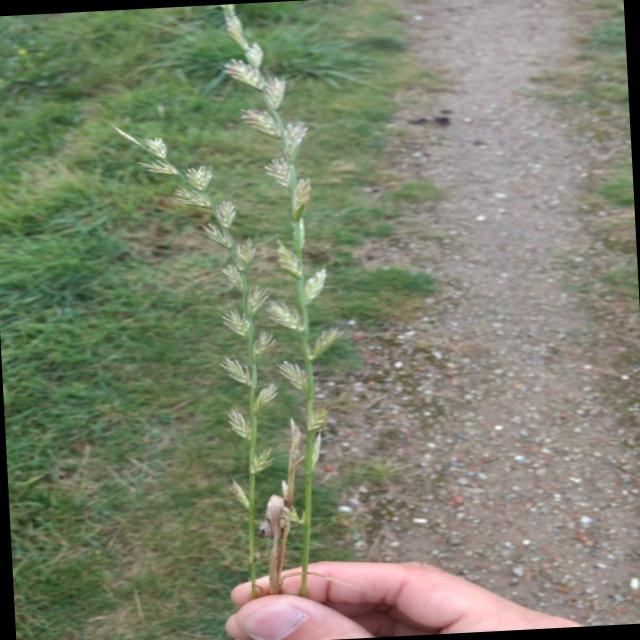Lolium: (102, 2, 361, 610)
